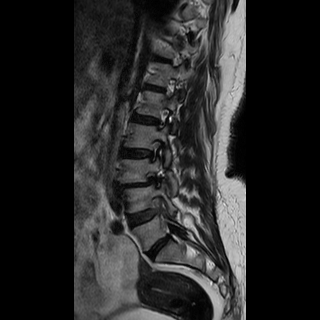RFS0: (151, 100, 180, 131)
RFS3: (143, 133, 169, 167), (146, 168, 174, 194)
